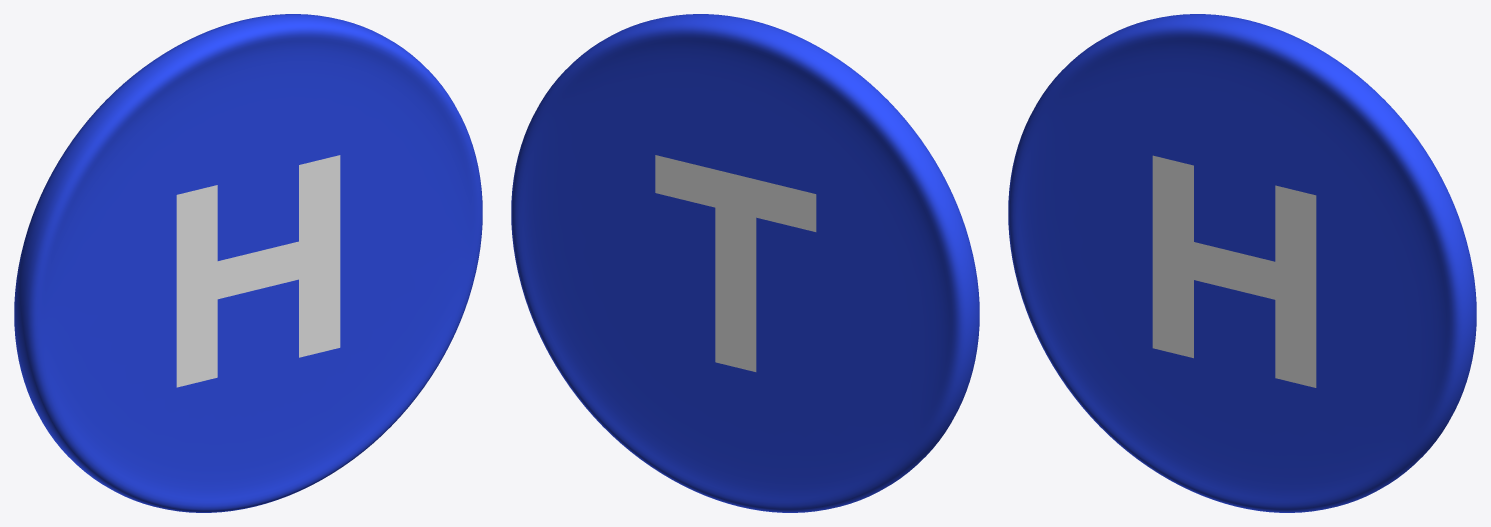
The model's file is gogo_coin.glb.
3 views of the same model, side by side, from view 1: azimuth 30°, elevation 25°; view 2: azimuth 150°, elevation 25°; view 3: azimuth 330°, elevation 25° (orthographic).
Parts seen in each view (by area): view 1: Circle.004, Text.005; view 2: Circle.004, Text.006; view 3: Circle.004, Text.005.
Boxes of the visible parts, left/top/right/bottom form: Circle.004: left=14, top=14, right=482, bottom=512; Text.005: left=176, top=155, right=340, bottom=387; Circle.004: left=511, top=14, right=979, bottom=512; Text.006: left=655, top=155, right=816, bottom=371; Circle.004: left=1008, top=14, right=1476, bottom=512; Text.005: left=1152, top=155, right=1316, bottom=387.
Size of the model in its own units: 2.44 by 2.44 by 0.1767.
